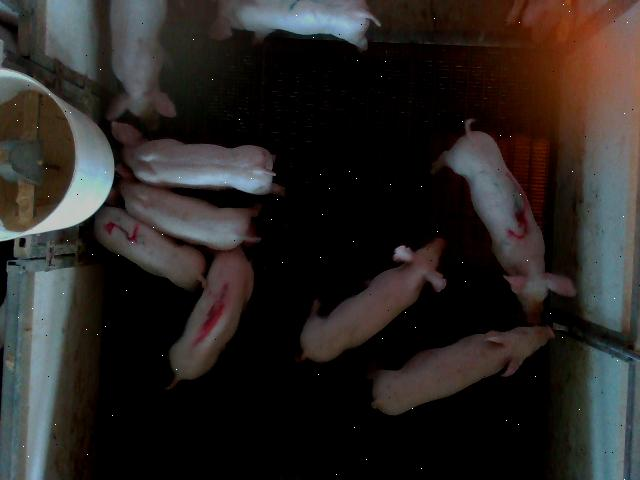pig-1: (166, 247, 254, 390)
pig-3: (431, 119, 576, 325)
pig-5: (94, 206, 208, 292)
